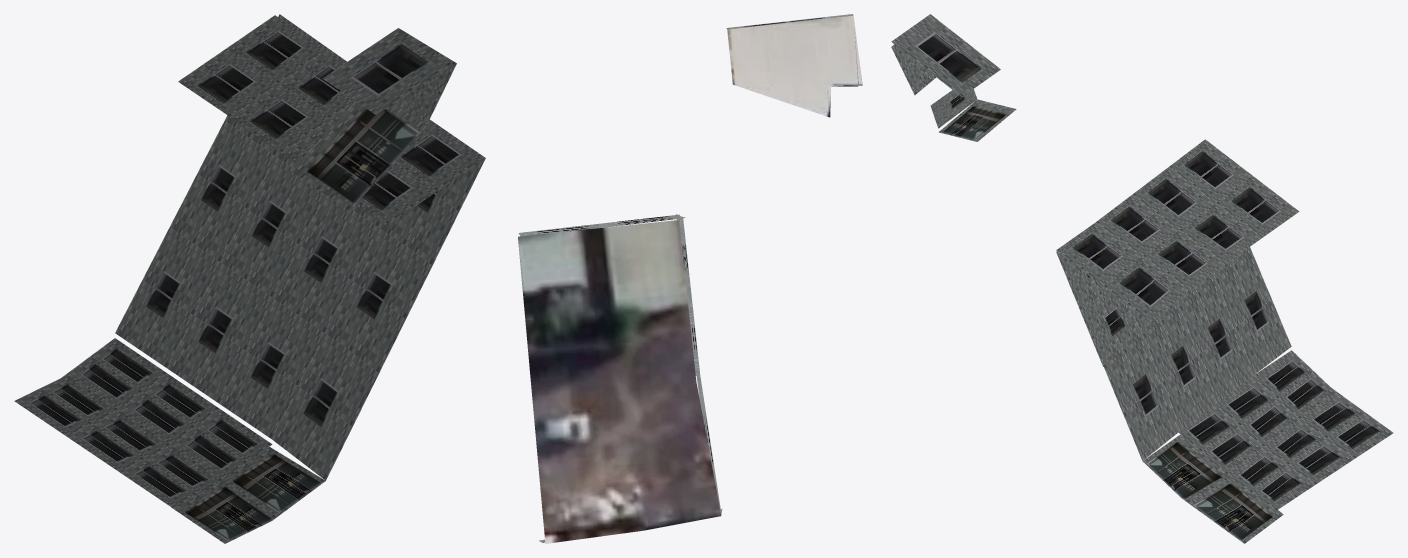
File: tile_LOD4_r8_c7.glb
The picture shows the model from 3 angles, left to right: view 1: azimuth 30°, elevation 25°; view 2: azimuth 150°, elevation 25°; view 3: azimuth 270°, elevation 25°; orthographic projection. The views are drawn at different scales.
Size of the model in its own units: 20.5 by 31.75 by 32.
Materials: 6 (6 with a texture image).
